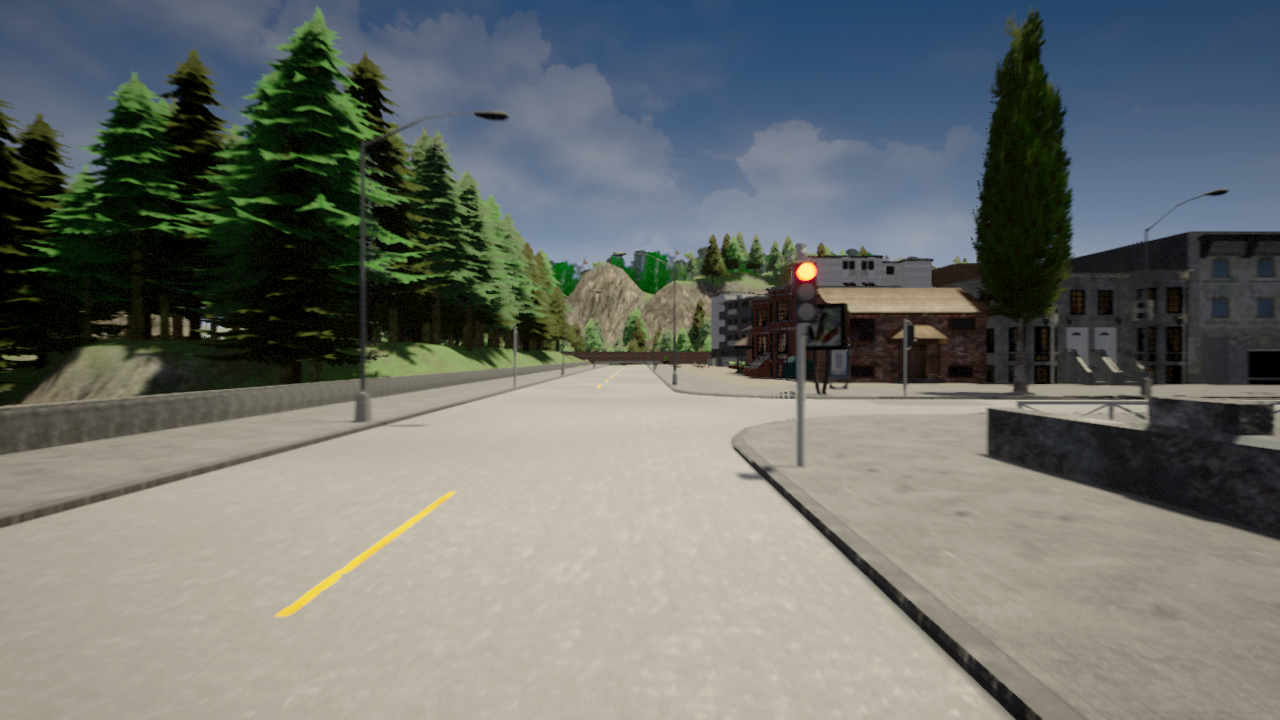red: (790, 263, 822, 326)
